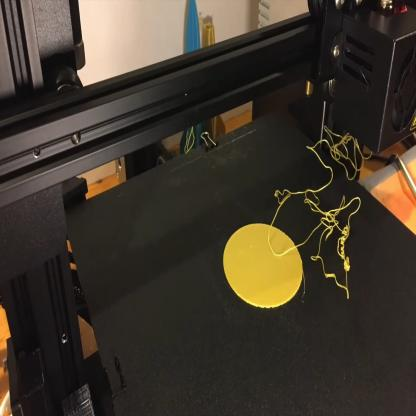fail: (307, 132, 364, 304)
